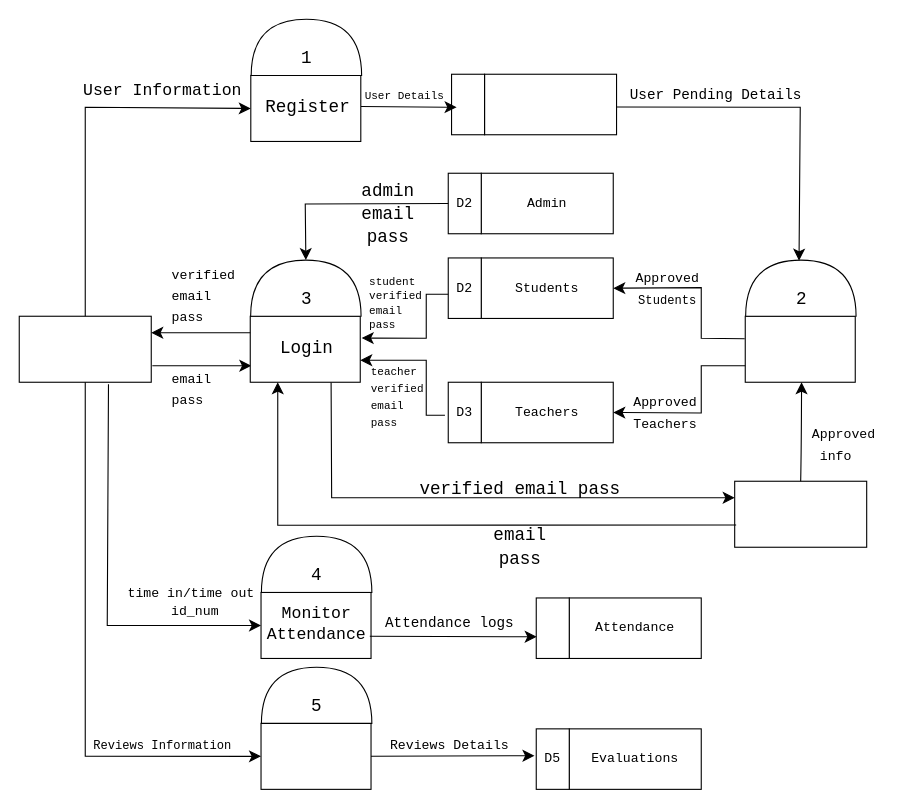
Some shapes in this 917 by 810 pixel diagram are drawn without their labels. The shapes that lost their labels are listed below. From the top down, each one's centre as x and y in pixels, then its label:
[467,104]: D1
[550,104]: Registration Approval
[84,348]: Library User
[799,348]: Approval
[800,513]: Library Admin
[552,627]: D4
[315,755]: Reviews
